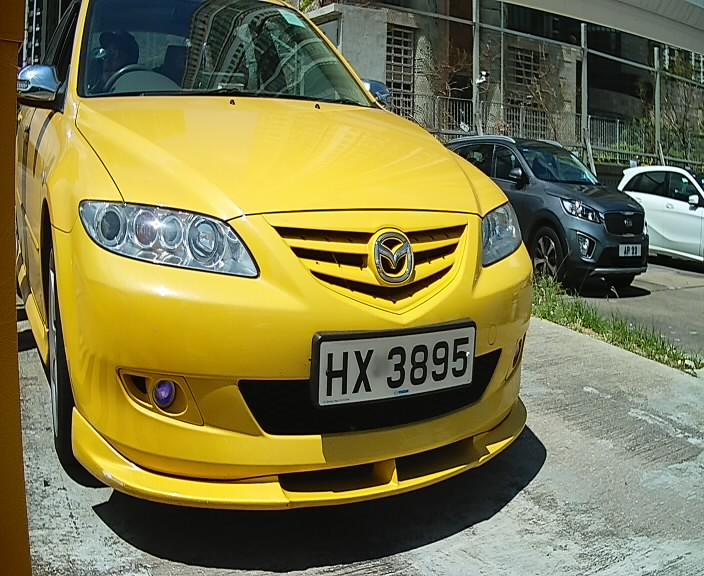Car: (28, 20, 557, 557)
License Plate: (318, 322, 470, 415)
